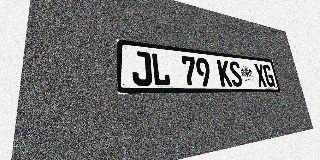7: (180, 56, 198, 86)
9: (195, 57, 212, 86)
G: (262, 64, 275, 87)
J: (131, 50, 152, 86)
K: (217, 59, 233, 87)
L: (151, 53, 171, 86)
S: (228, 61, 243, 87)
X: (254, 63, 267, 87)
